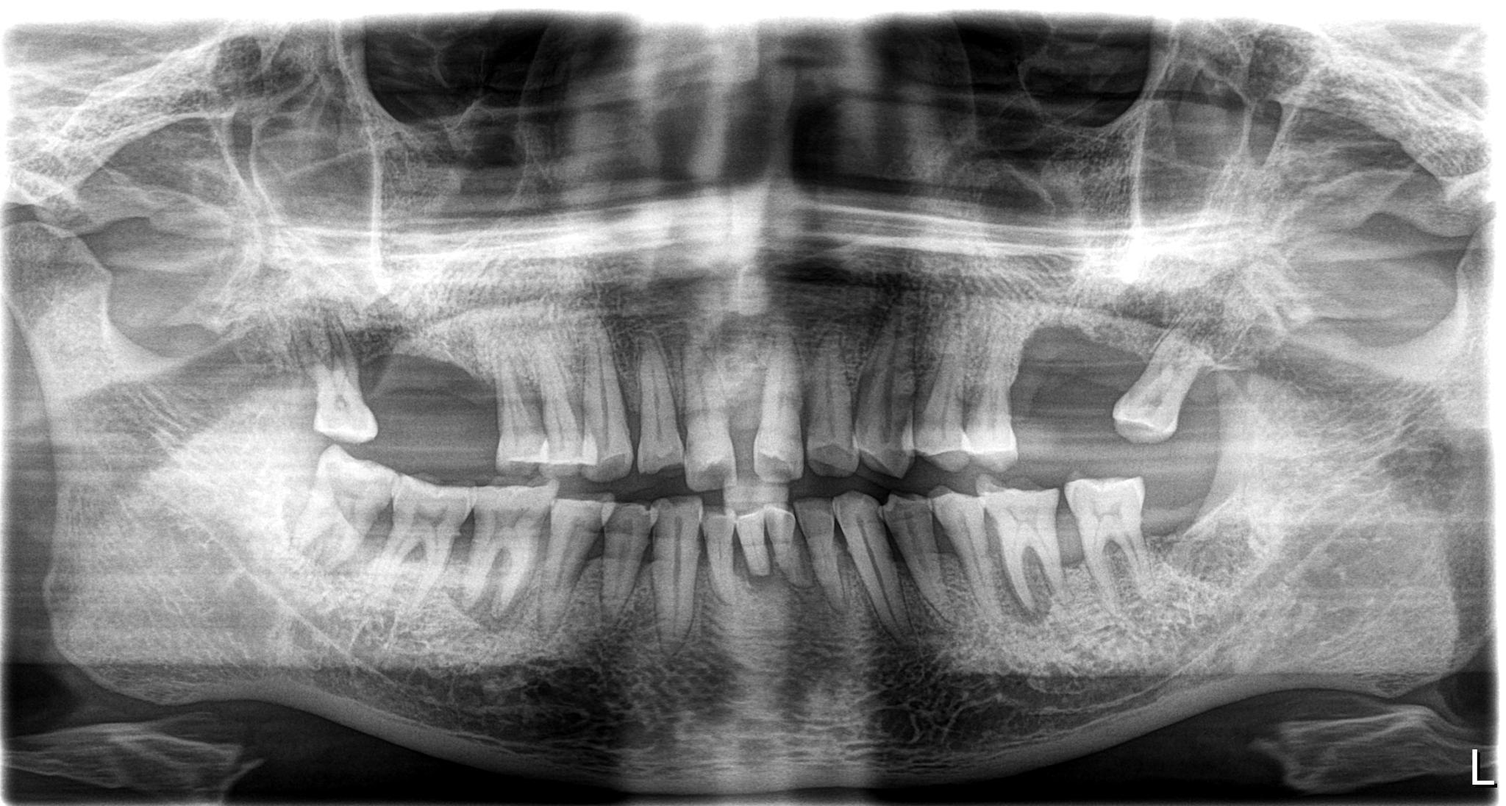Impacted Third Molar: (1120, 327, 1205, 435), (298, 360, 374, 445)
Missing Tooth: (427, 338, 498, 458), (1142, 461, 1227, 555), (1068, 331, 1124, 445), (1018, 333, 1067, 448), (377, 344, 429, 452)
